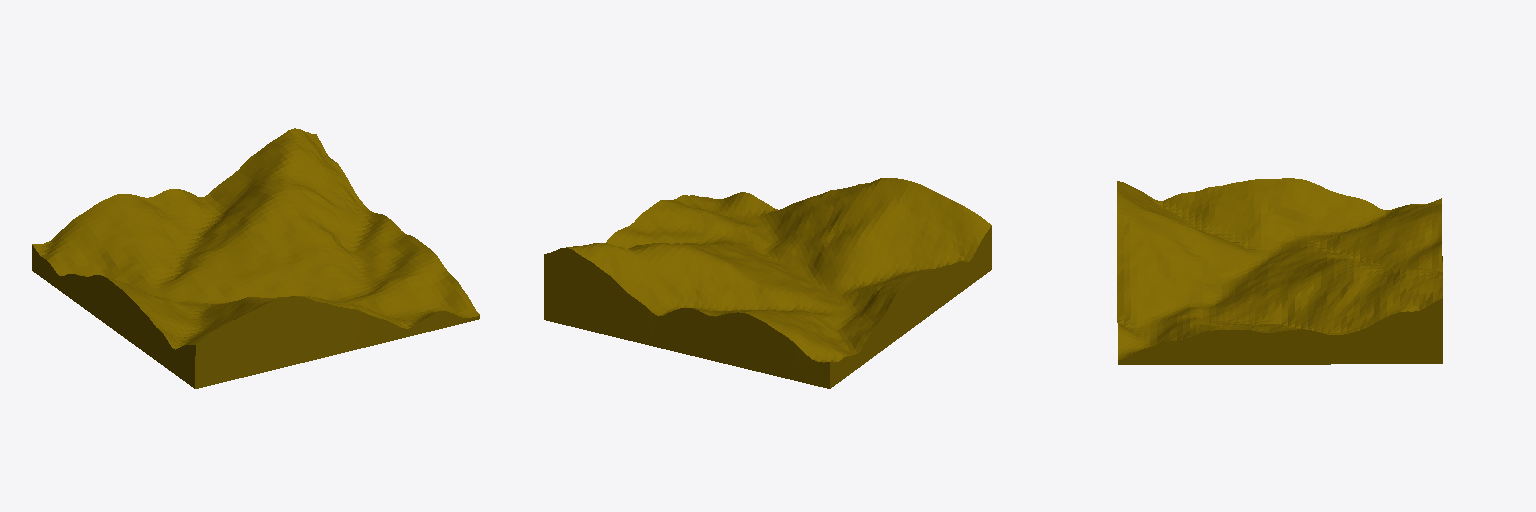
The model's file is terrar.obj.
3 views of the same model, side by side, from view 1: azimuth 30°, elevation 25°; view 2: azimuth 150°, elevation 25°; view 3: azimuth 270°, elevation 25° (orthographic).
Parts seen in each view (by area): view 1: ???_????????; view 2: ???_????????; view 3: ???_????????.
Part boxes in pixels (left/top/right/bottom): ???_????????: left=32, top=128, right=479, bottom=388; ???_????????: left=544, top=178, right=991, bottom=388; ???_????????: left=1117, top=178, right=1442, bottom=364.
Bounding box in the file's own units: 40150 × 10455 × 39700.